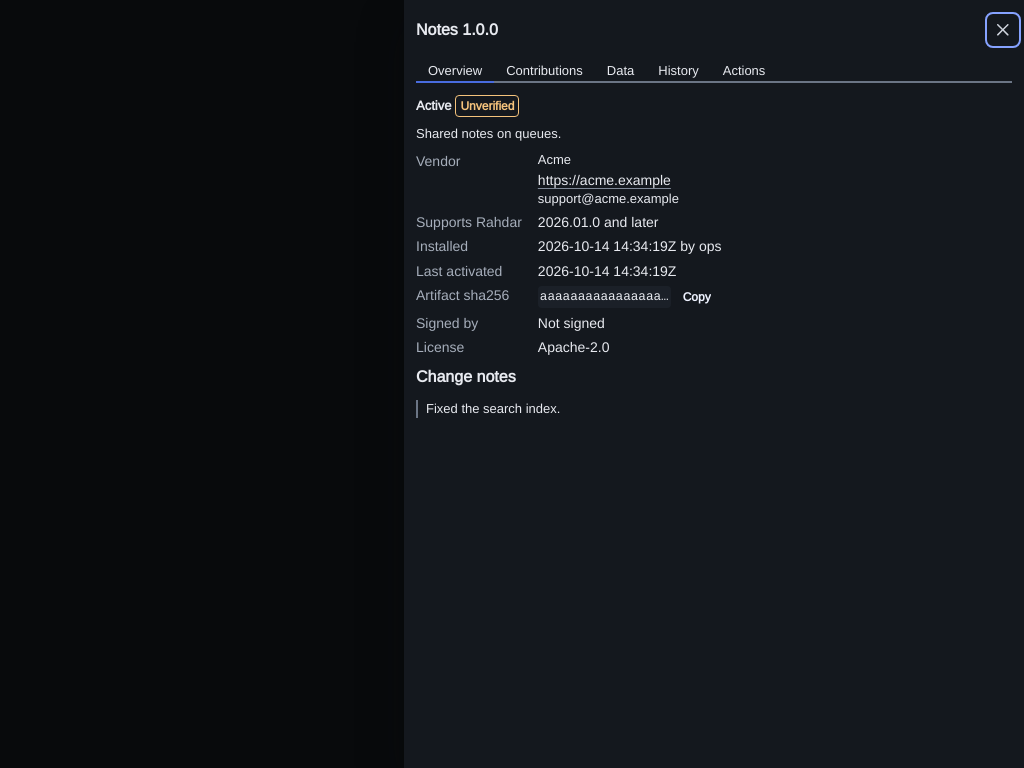
Test case: PluginDrawer: actions offered › gives a default reason when none is supplied
Click the tab "Actions" at (744, 72), box [711,60,777,83]
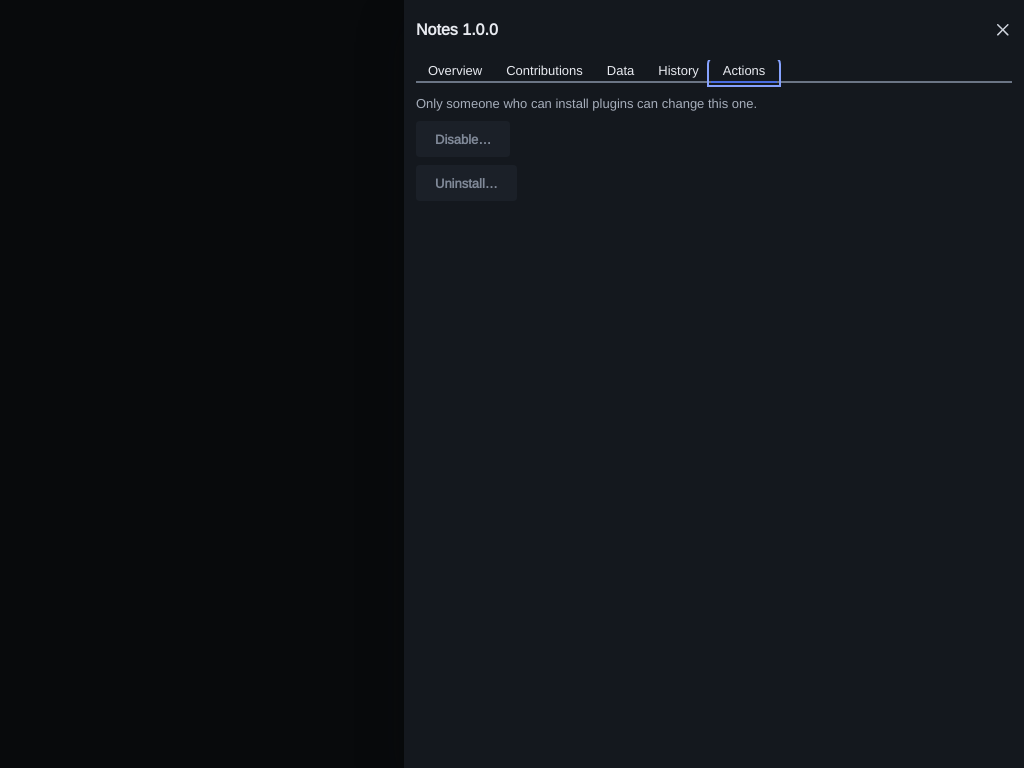
Result: the text "Only someone who can install plugins can change this one." is shown at [416,95,757,112]
